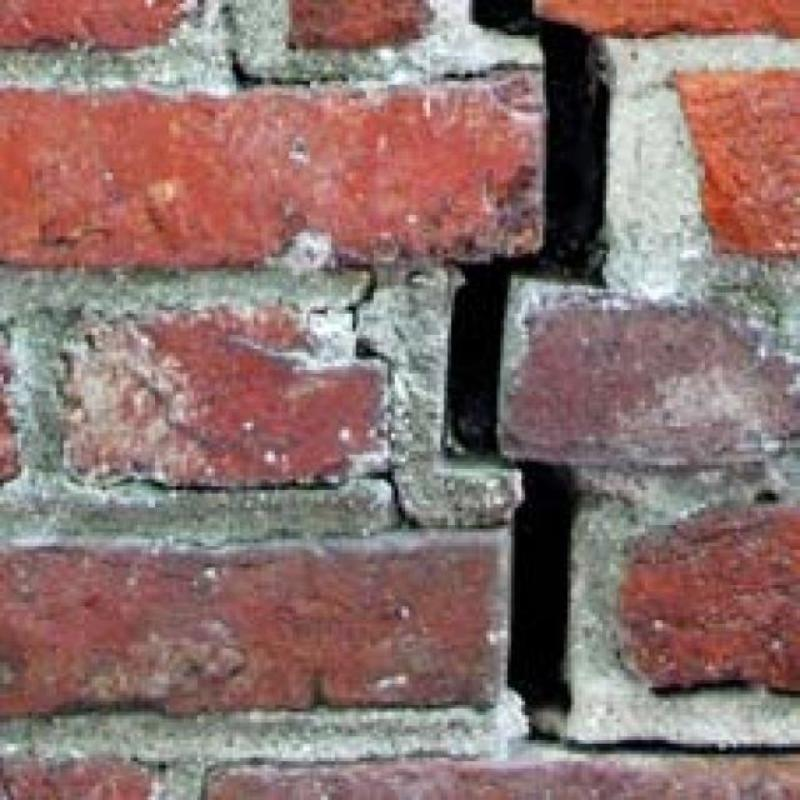pothole: (508, 464, 800, 762), (447, 0, 609, 459), (343, 264, 380, 359), (370, 467, 419, 529)
